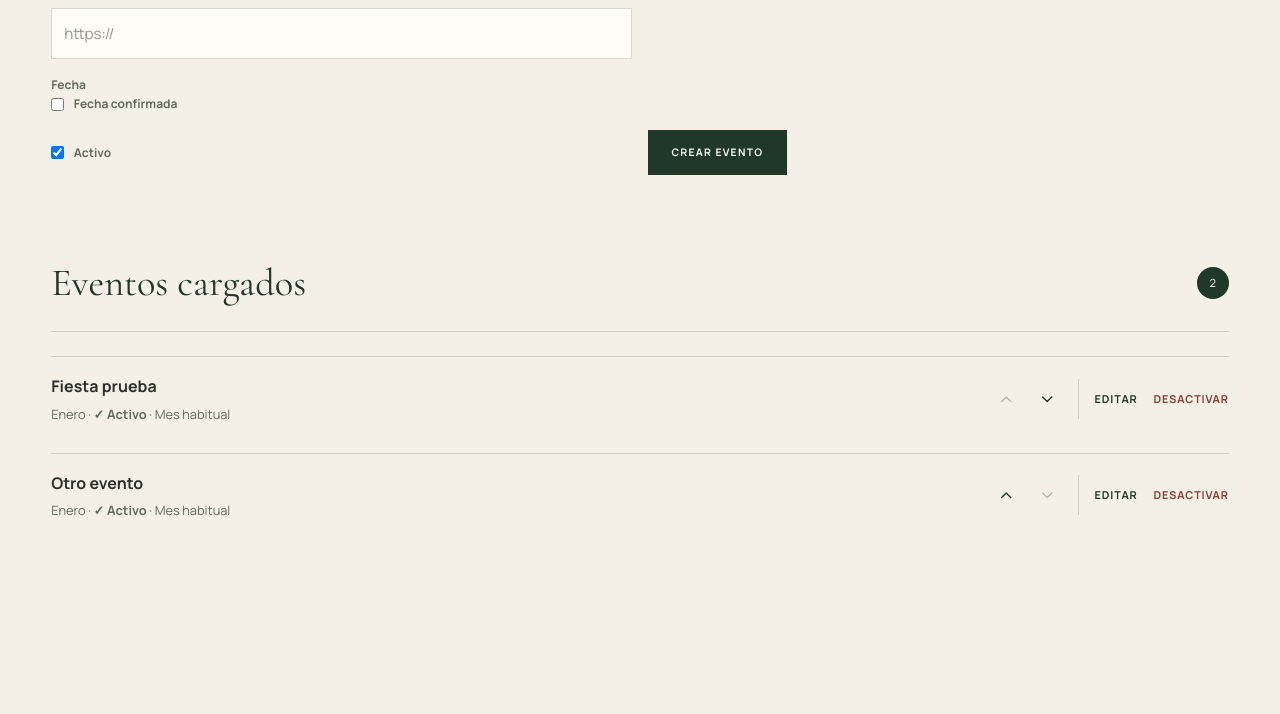
Scenario: EventsAdmin › restores the received order when discarding changes
The width and height of the screenshot is (1280, 714).
(page scrolled)
What coordinates should you click on to do the following:
click the button named "Bajar Fiesta prueba"
I would click on:
 (1047, 399)
Its box is [1027, 379, 1067, 419].
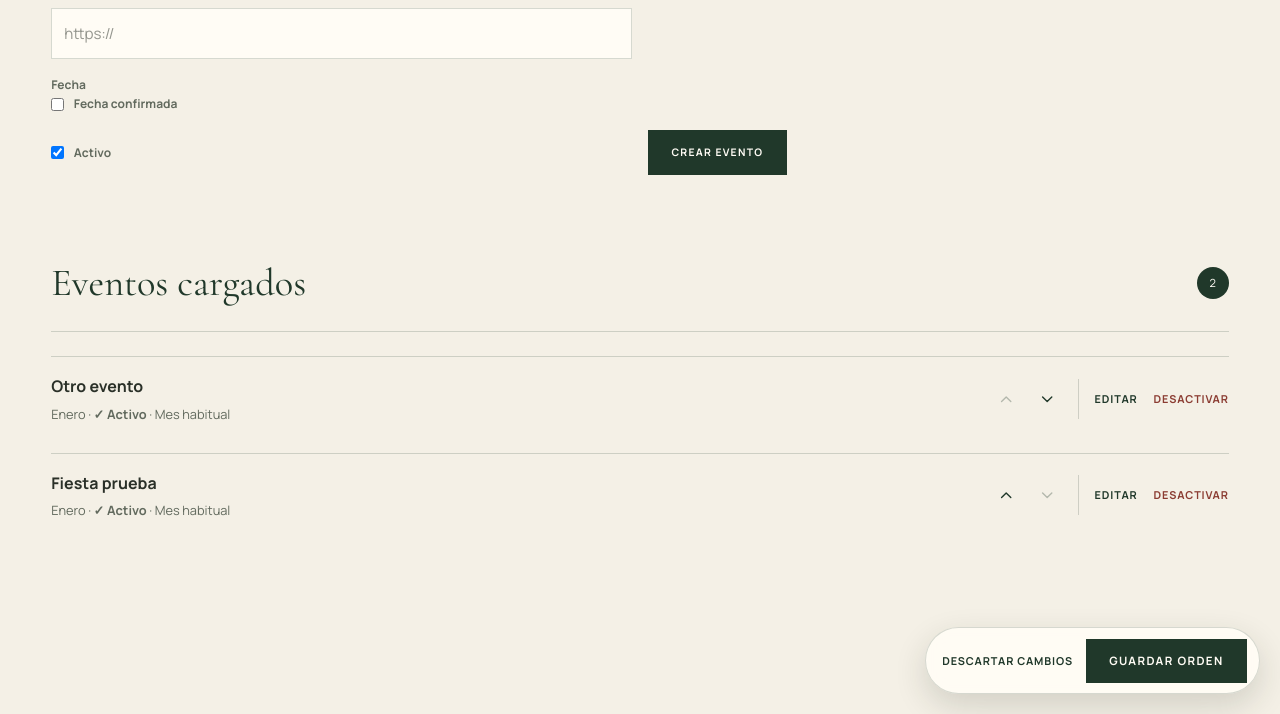
What coordinates should you click on to do the following:
click the button "Descartar cambios"
I would click on:
 (1008, 661)
Its box is [942, 644, 1073, 677].
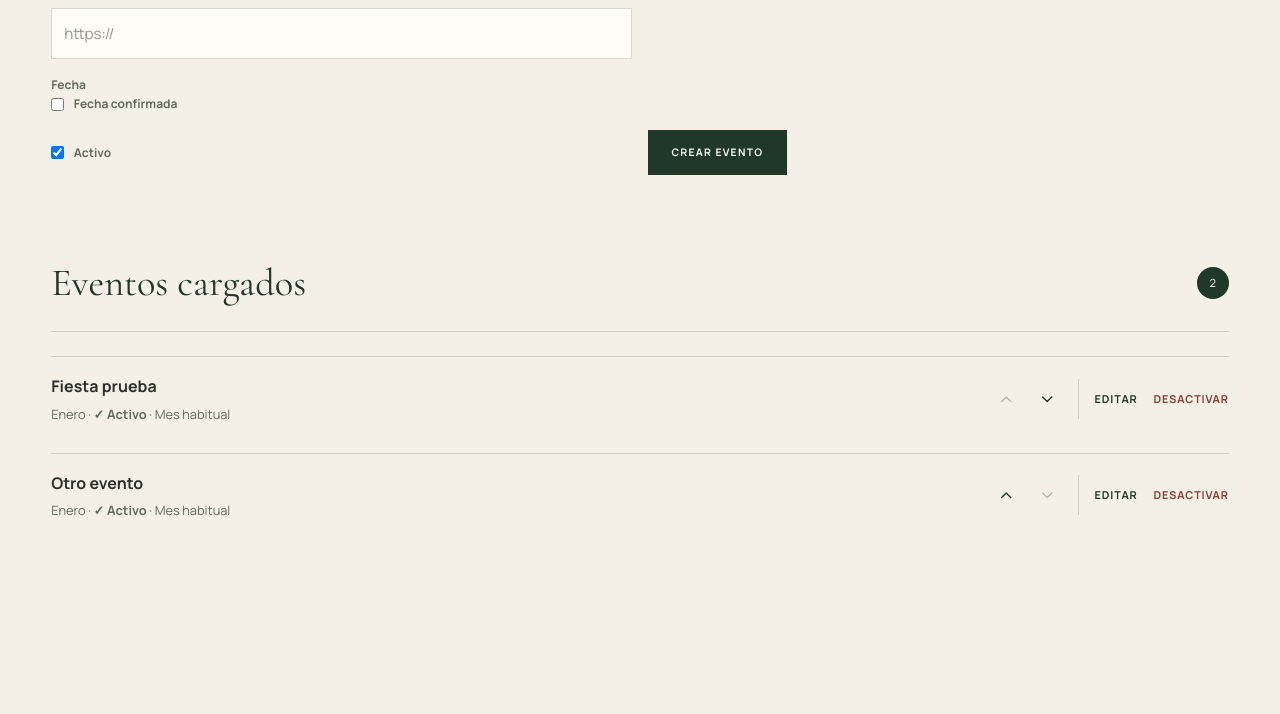
Now the button "Guardar orden" is gone
